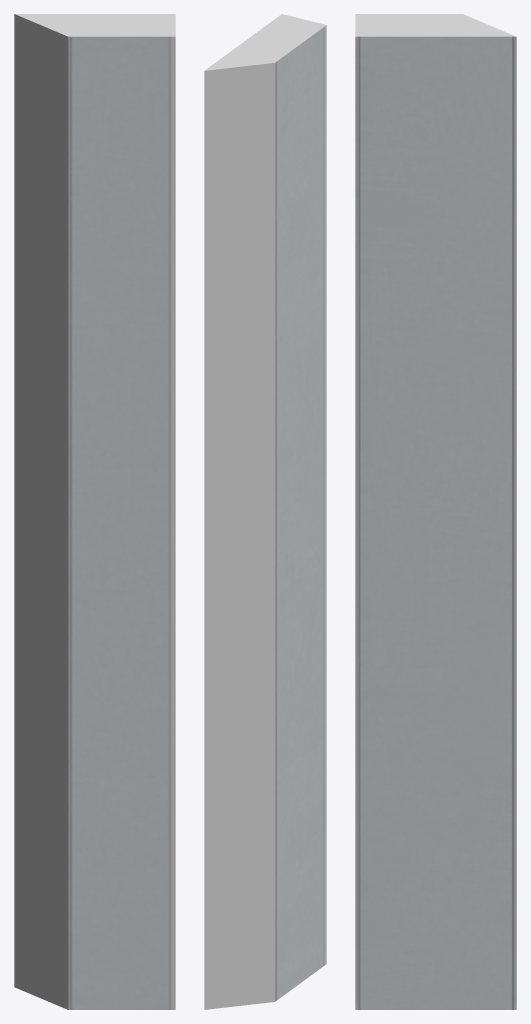
Rendered from Bld_Corner_01_L.fbx.
The picture shows the model from 3 angles, left to right: view 1: azimuth 90°, elevation 25°; view 2: azimuth 150°, elevation 25°; view 3: azimuth 270°, elevation 25°; orthographic projection. The views are drawn at different scales.
Visible parts, largest first — view 1: Bld_Corner_01_L; view 2: Bld_Corner_01_L; view 3: Bld_Corner_01_L.
Boxes of the visible parts, x1=… form: Bld_Corner_01_L: x1=14, y1=14, x2=175, y2=1009; Bld_Corner_01_L: x1=204, y1=14, x2=326, y2=1009; Bld_Corner_01_L: x1=355, y1=14, x2=516, y2=1009.
Bounding box in the file's own units: 0.2 × 4 × 0.6.
1 material, 1 textured.
